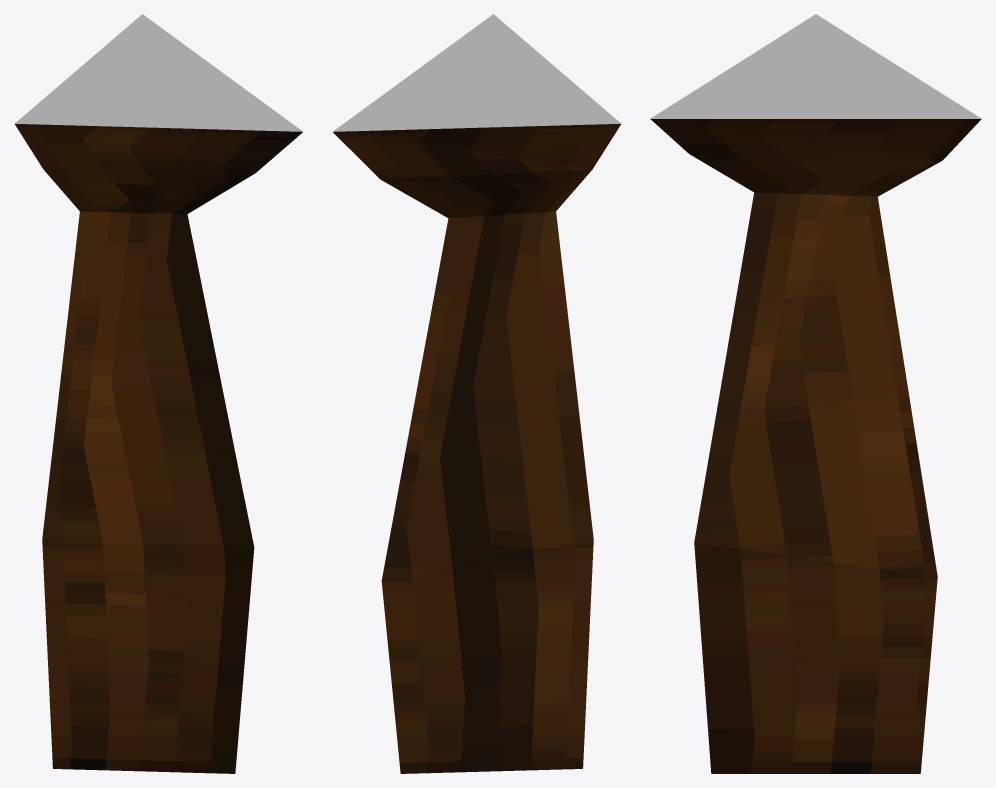
The model's file is Säule_Ionisch_Dick_993.glb.
The picture shows the model from 3 angles, left to right: view 1: azimuth 30°, elevation 25°; view 2: azimuth 150°, elevation 25°; view 3: azimuth 270°, elevation 25°; orthographic projection. The views are drawn at different scales.
Parts seen in each view (by area): view 1: pCylinderShape91, polySurfaceShape1069; view 2: pCylinderShape91, polySurfaceShape1069; view 3: pCylinderShape91, polySurfaceShape1069.
Part boxes in pixels (x1,y1,x2,y2): pCylinderShape91: (15, 124, 302, 773); polySurfaceShape1069: (15, 14, 302, 131); pCylinderShape91: (333, 124, 620, 773); polySurfaceShape1069: (333, 14, 620, 131); pCylinderShape91: (650, 119, 981, 773); polySurfaceShape1069: (650, 14, 981, 118).
Size of the model in its own units: 0.1165 by 0.3495 by 0.1559.
Materials: 2 (1 with a texture image).
